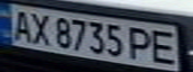3: (84, 19, 106, 55)
5: (103, 21, 127, 59)
7: (66, 17, 87, 52)
8: (51, 15, 72, 49)
A: (6, 7, 36, 43)
E: (145, 27, 184, 66)
P: (124, 25, 157, 62)
X: (27, 10, 54, 46)
